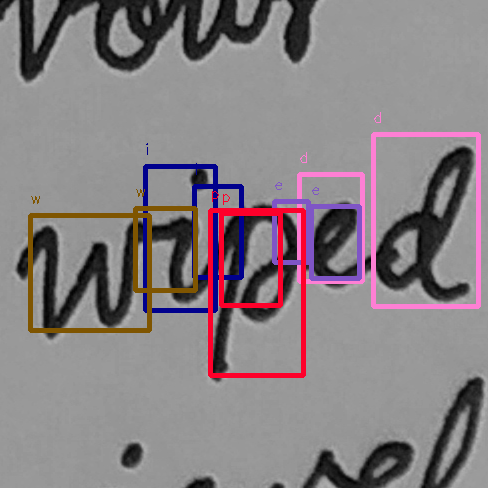d: (368, 141, 478, 304)
e: (308, 194, 366, 293)
i: (153, 159, 218, 309)
p: (201, 199, 307, 389)
w: (31, 208, 149, 345)
